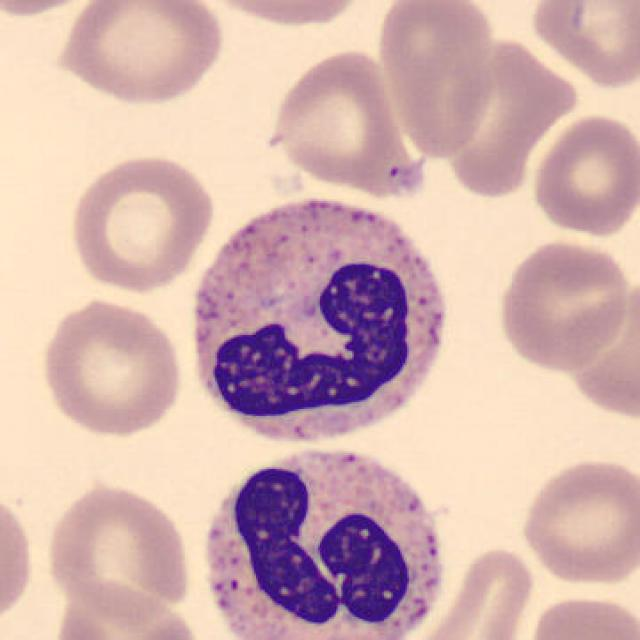Neutrophil: (182, 184, 460, 458), (190, 435, 457, 640)
RBC: (263, 44, 420, 198), (64, 150, 217, 294), (41, 478, 195, 620), (36, 294, 186, 439), (375, 0, 498, 162), (494, 234, 633, 374), (52, 0, 230, 108), (516, 453, 638, 589), (528, 109, 636, 240), (405, 543, 539, 640), (526, 0, 638, 90), (46, 578, 206, 638), (520, 590, 638, 640), (0, 485, 39, 635), (194, 0, 370, 30), (0, 0, 107, 18)
